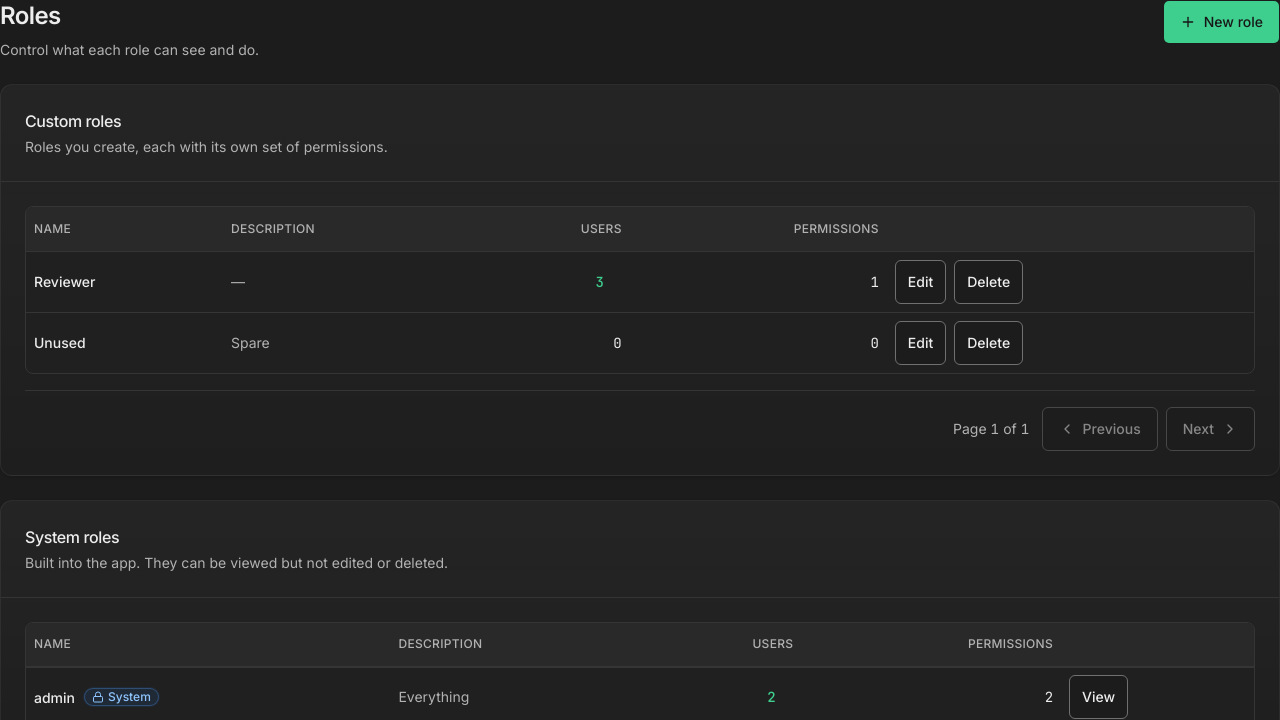
Roles tab › shows a refused delete in the dialog
This screenshot has width=1280, height=720.
Click the button "Delete" in the row of "Unused" at (989,342), box [954,320,1023,364]
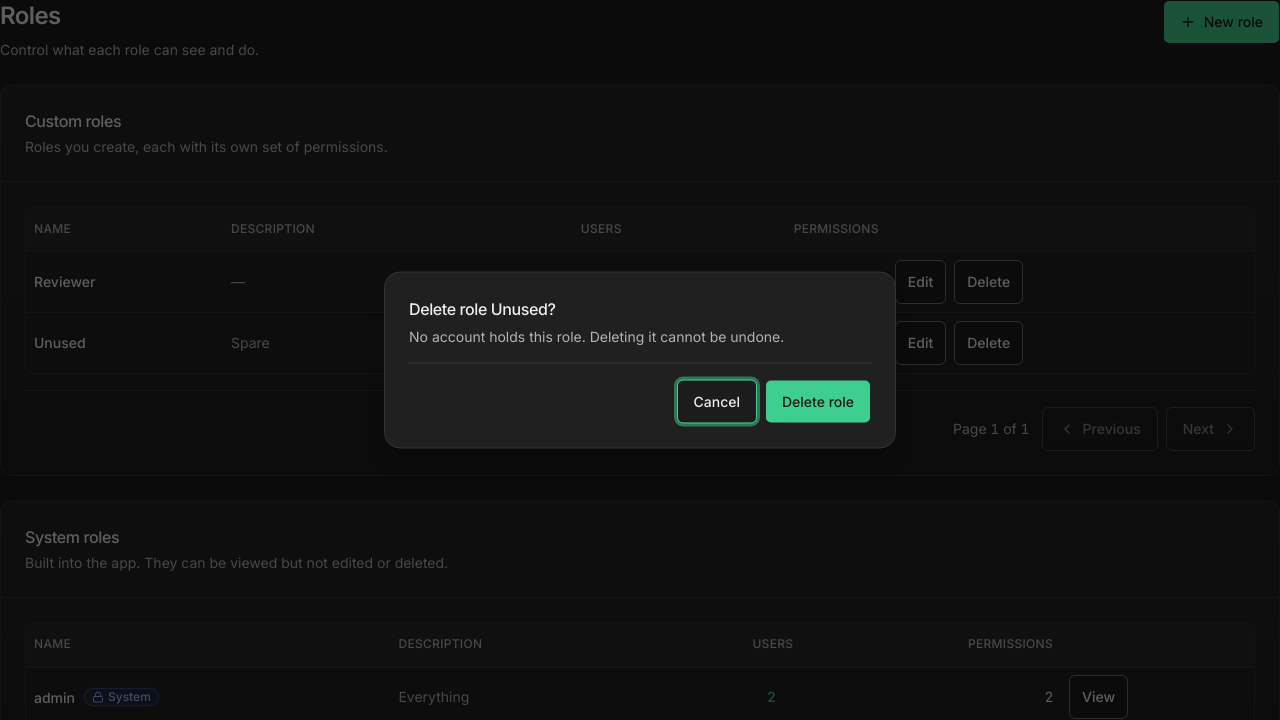
Click the button "Delete role" at (818,402), box [765,380,871,424]
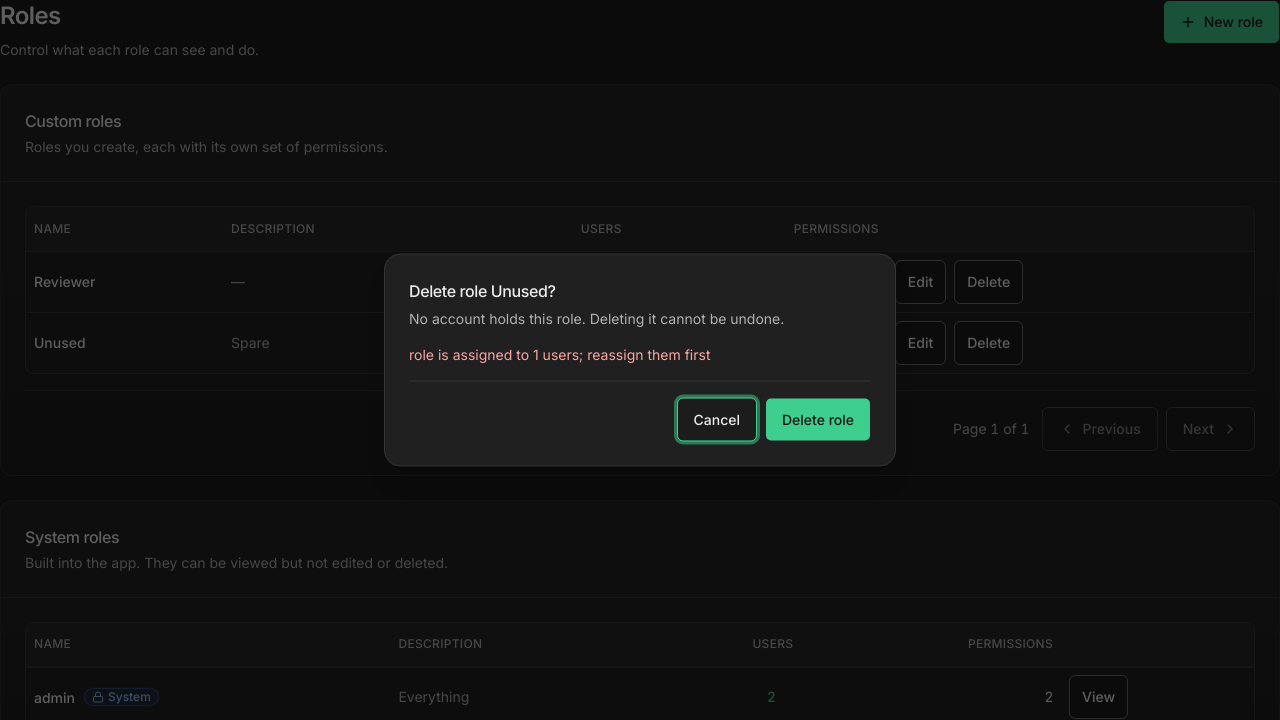
Expected: the message shows "reassign them first", [409,346,710,362]
